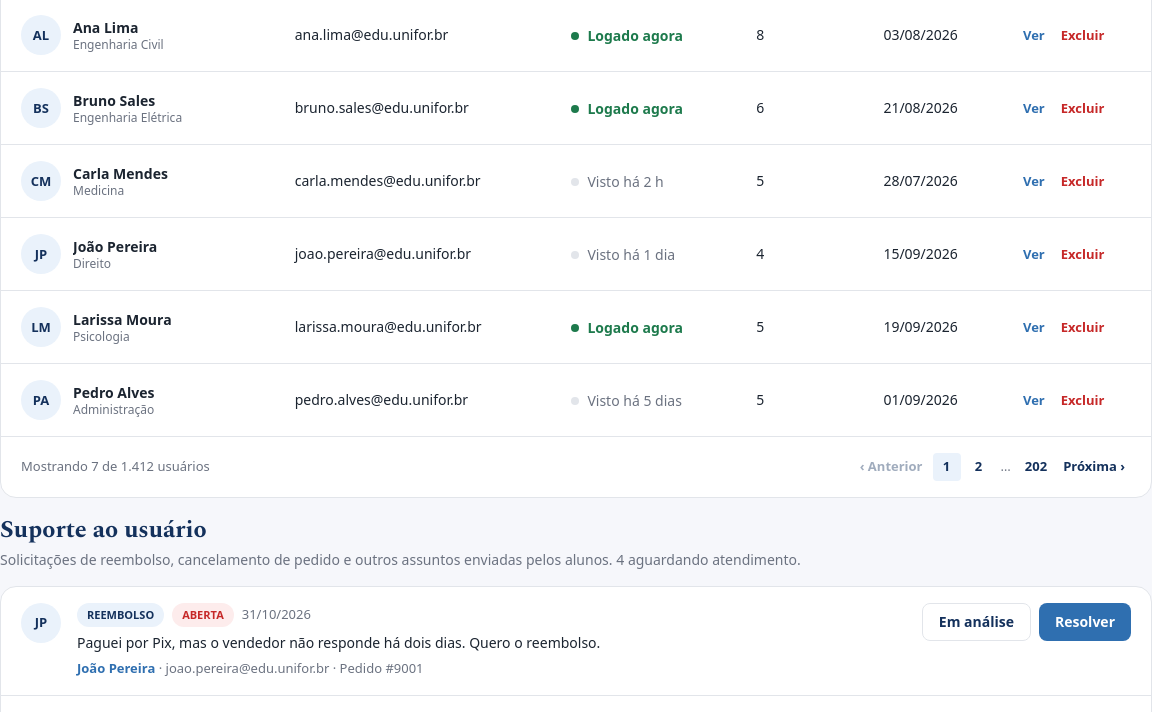
Scenario: Admin · lista de usuários (A01) › "Excluir" abre o pop-up com o foco em "Cancelar" e o anúncio do nome certo
(page scrolled)
Click the button with aria-label "Excluir Pedro Alves".
click(1083, 400)  # box [1061,391,1104,410]
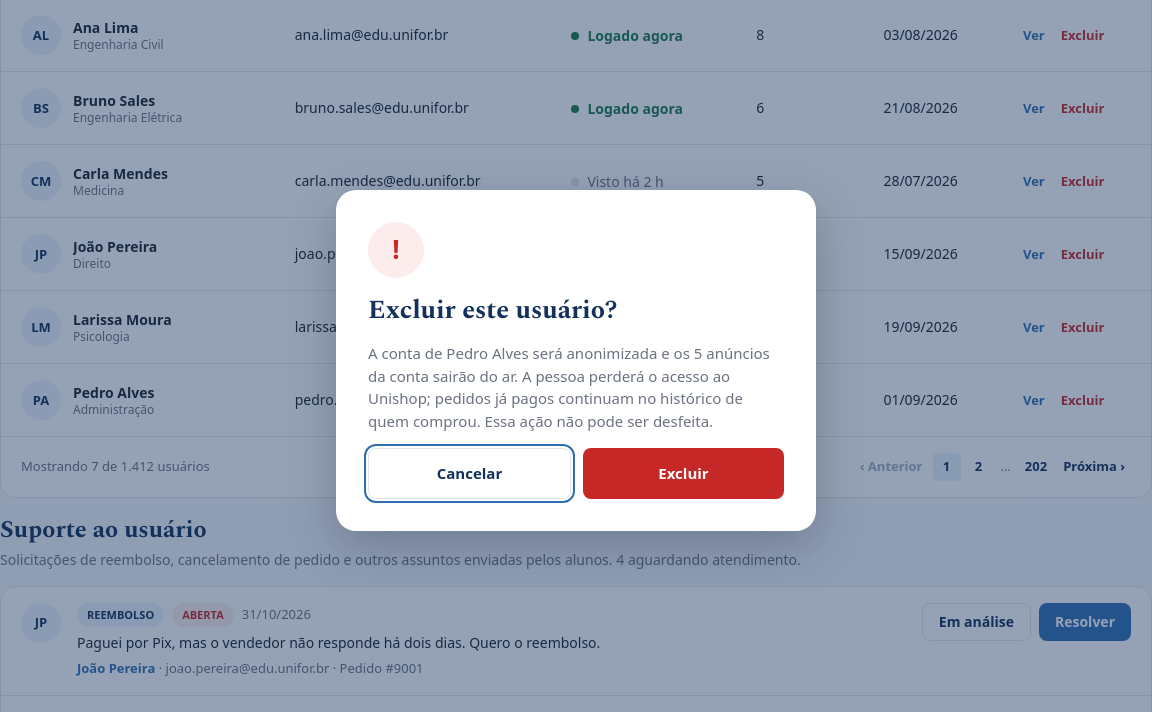
Check: the text "A conta de Pedro Alves será anonimizada" is shown, box [368,343,770,430]
